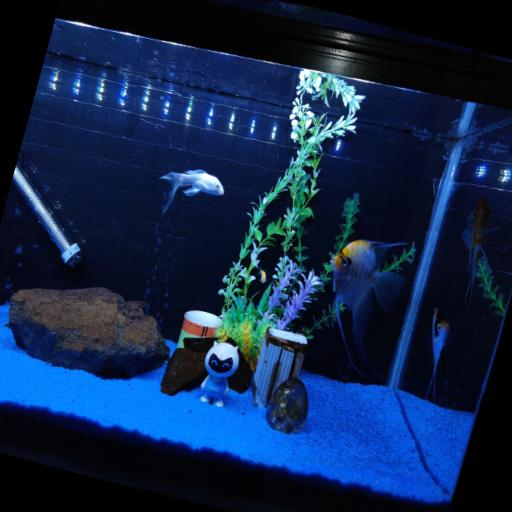Fish: (330, 240, 405, 374), (461, 197, 488, 316), (160, 170, 223, 213), (425, 309, 449, 406), (257, 267, 266, 283)
